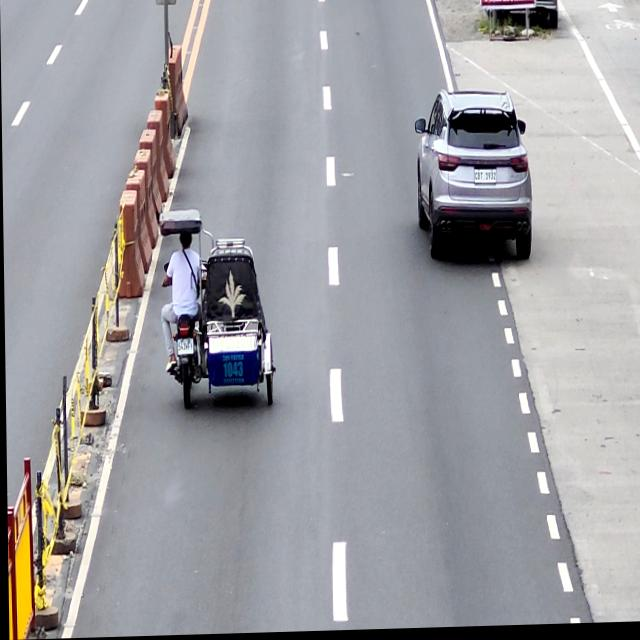Car: (413, 90, 533, 270)
License-Plate: (473, 171, 496, 188), (176, 340, 193, 356)
Tricycle: (156, 207, 275, 408)
